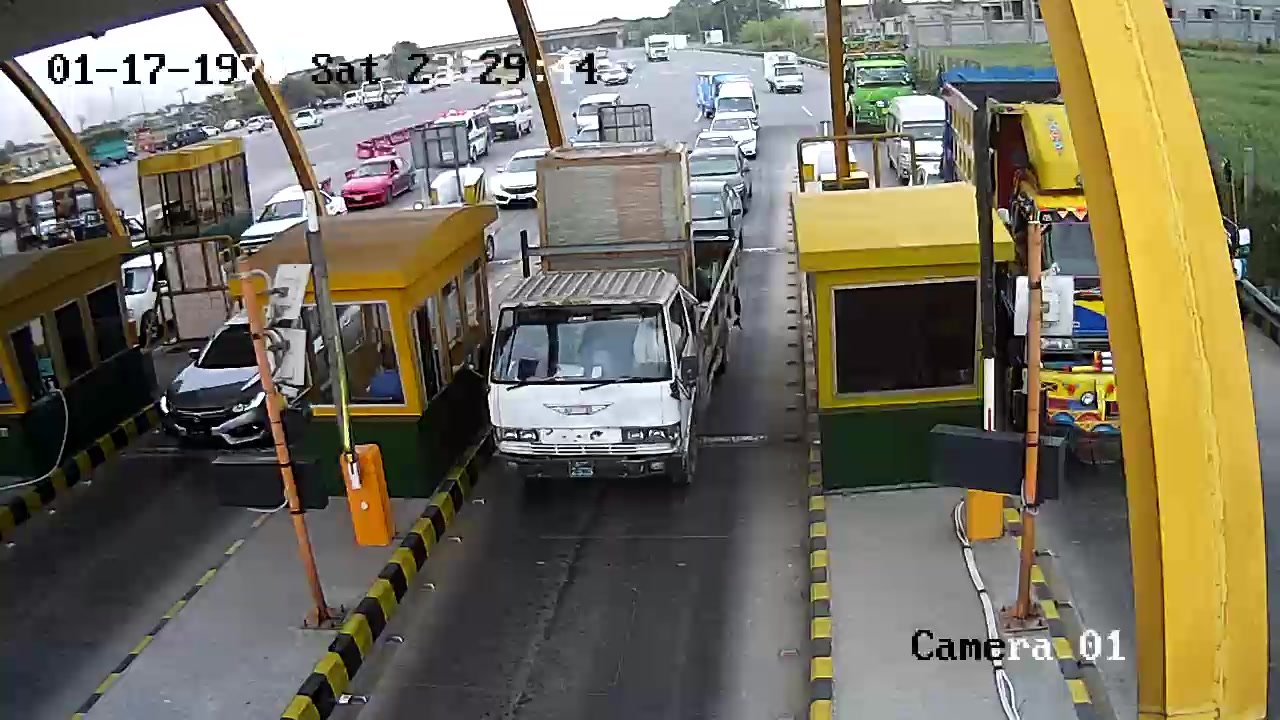F3: (482, 135, 746, 485)
